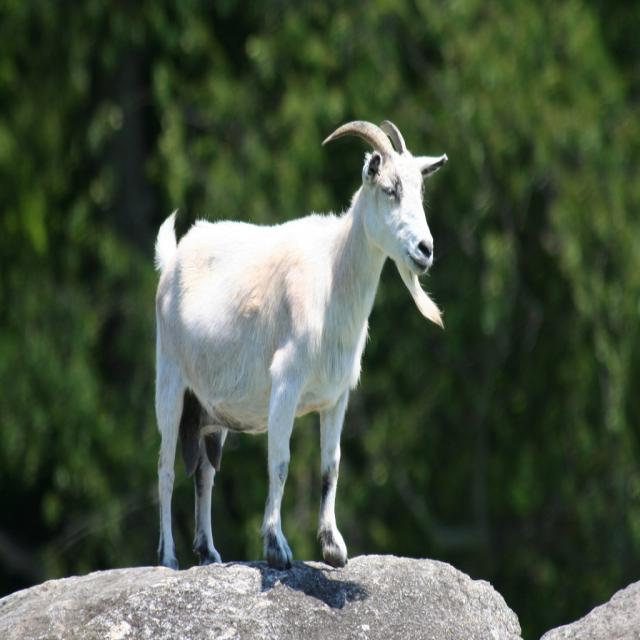Goat: (156, 120, 444, 570)
